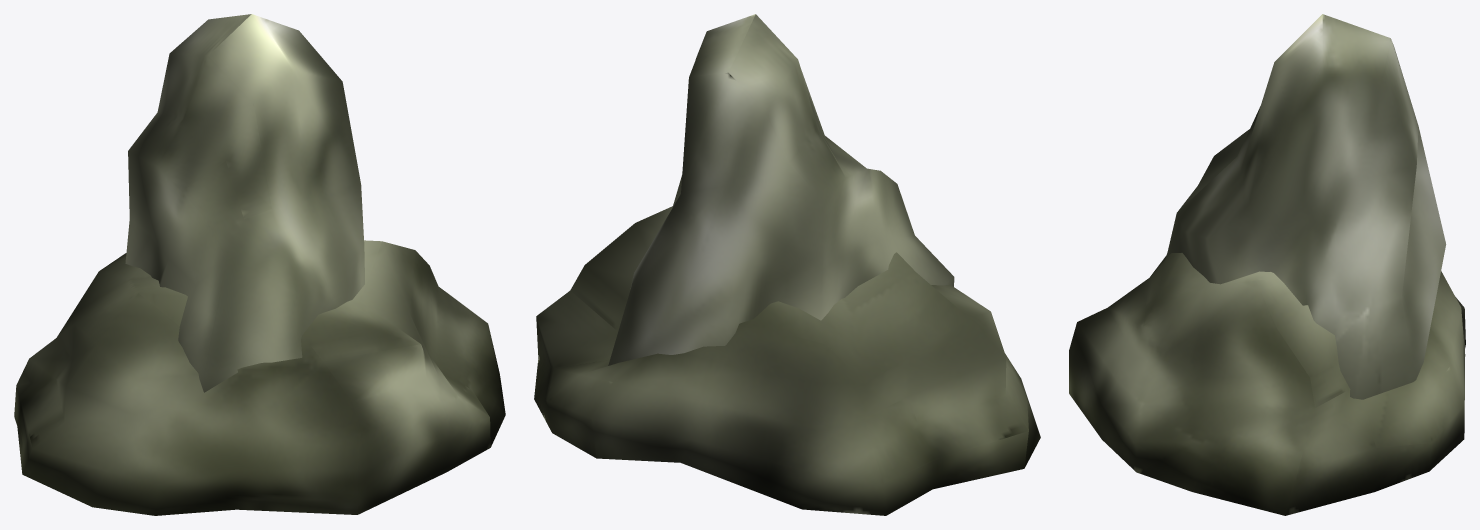
Rendered from stones.fbx.
3 views of the same model, side by side, from view 1: azimuth 30°, elevation 25°; view 2: azimuth 150°, elevation 25°; view 3: azimuth 270°, elevation 25° (orthographic). The views are drawn at different scales.
Visible parts, largest first — view 1: stone_4, stone_3; view 2: stone_4, stone_3; view 3: stone_4, stone_3.
Part boxes in pixels (bbox=[...]): stone_4: bbox=[14, 240, 505, 515]; stone_3: bbox=[125, 14, 364, 392]; stone_4: bbox=[534, 206, 1040, 515]; stone_3: bbox=[608, 14, 954, 365]; stone_4: bbox=[1069, 253, 1465, 515]; stone_3: bbox=[1165, 14, 1446, 399].
Bounding box in the file's own units: 12.3 × 10.06 × 9.14.
Materials: 4 (4 with a texture image).
